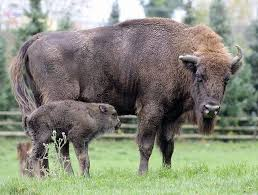zubr: (6, 19, 248, 183), (12, 99, 128, 173)
